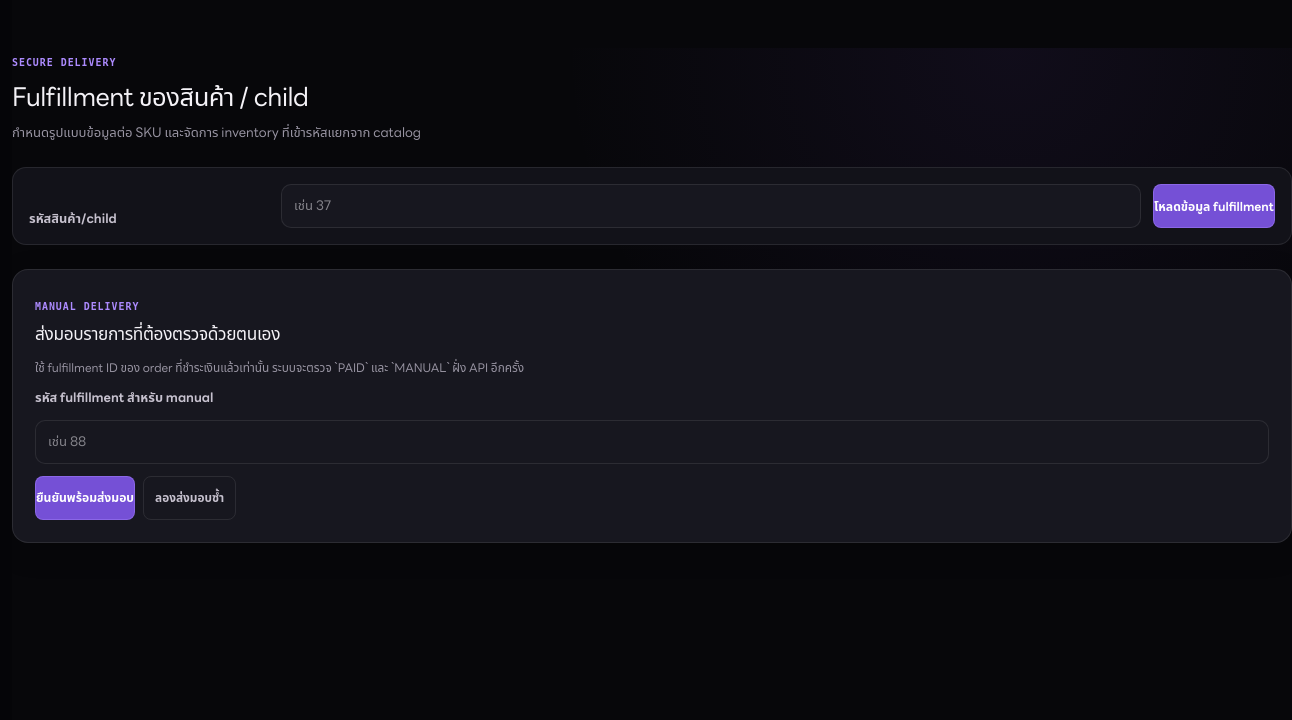
Test: AdminFulfillmentConsole › loads a child product and keeps secret fields hidden until explicit reveal
The image size is (1292, 720).
Type "37" into the field labelled "รหัสสินค้า/child".
click(711, 206); type("37")  # box [281,184,1141,228]
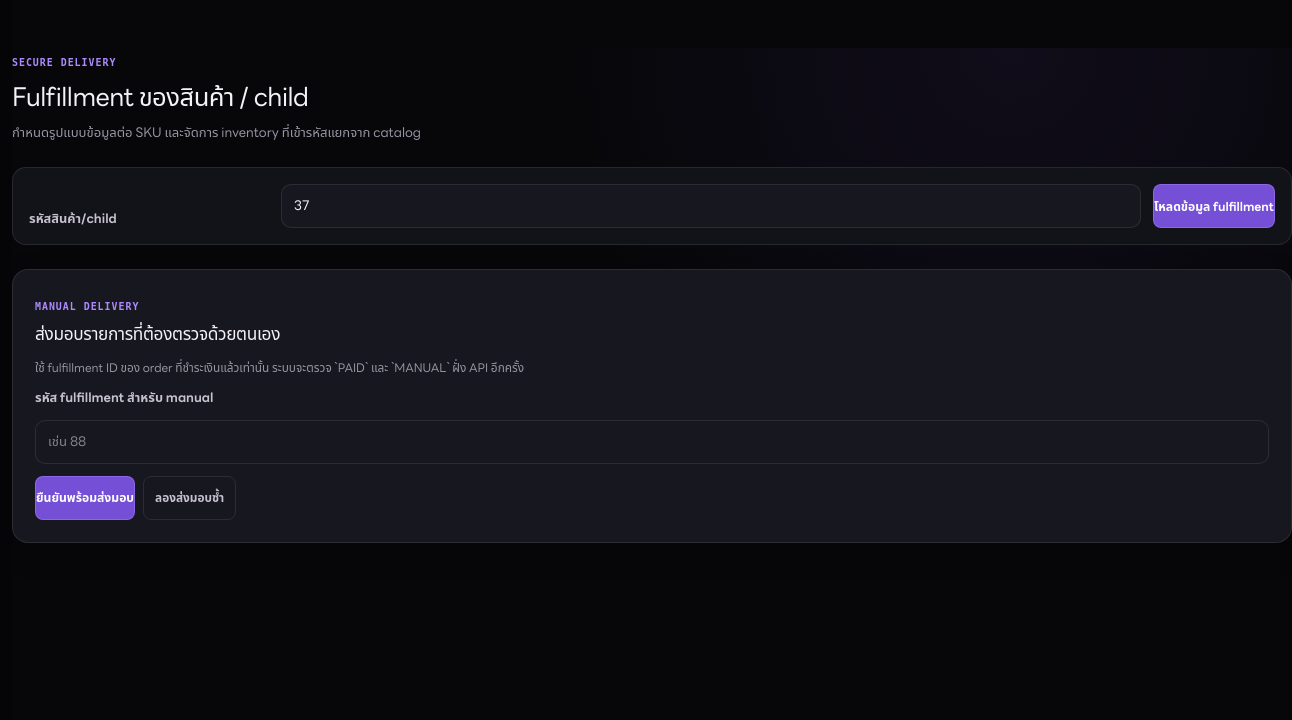
Click the button "โหลดข้อมูล fulfillment".
click(1214, 206)  # box [1153,184,1275,228]
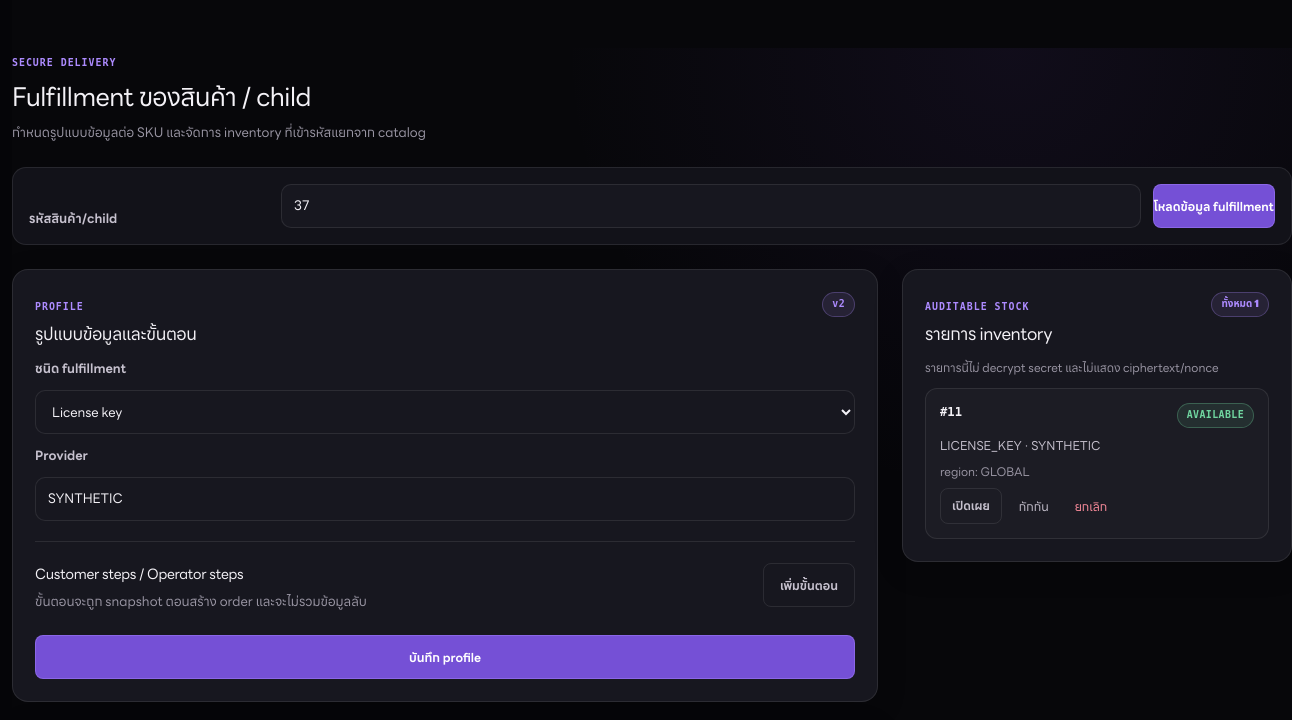
Expected: the text "synthetic-license" is not shown
Result: the dropdown labelled "ชนิด fulfillment" shows "License key" at [35,390,855,434]
Result: the button with aria-label "เปิดเผยข้อมูลรายการ 11" is shown
Click the button with aria-label "เปิดเผยข้อมูลรายการ 11".
click(971, 506)  # box [940,488,1002,524]
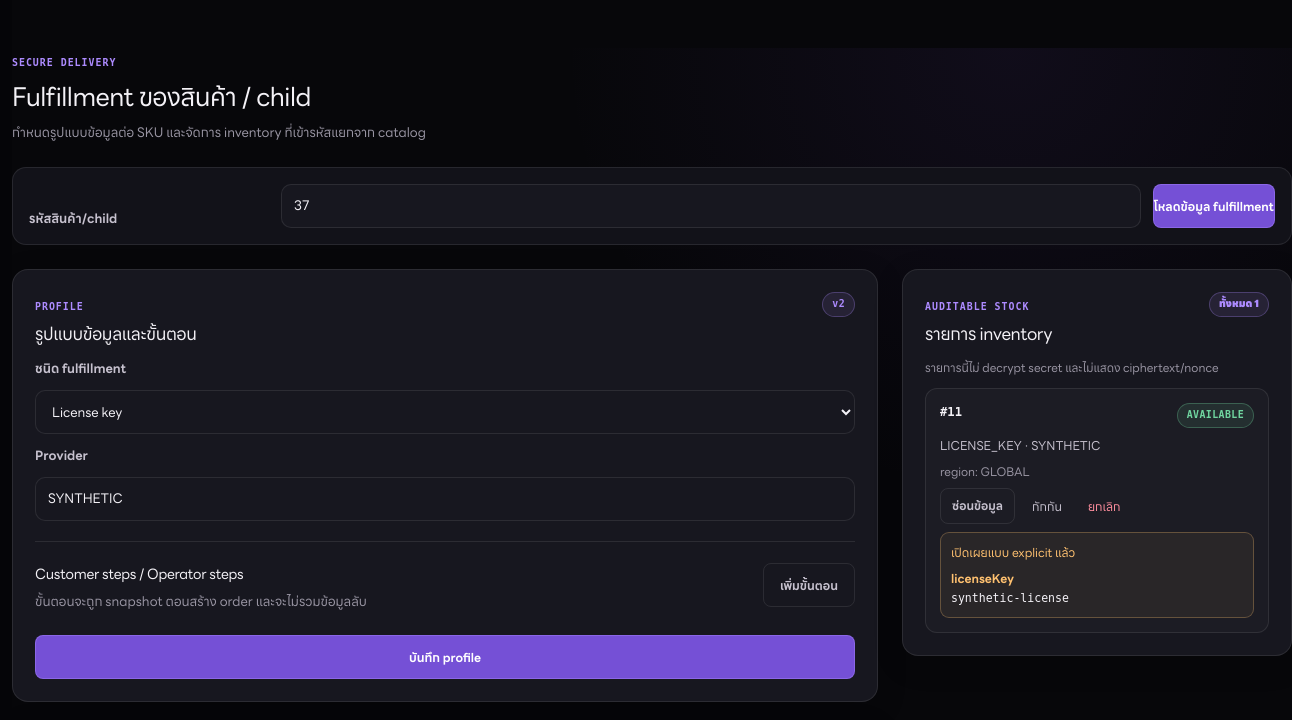
Result: the text "synthetic-license" is shown at [951,591,1069,605]
